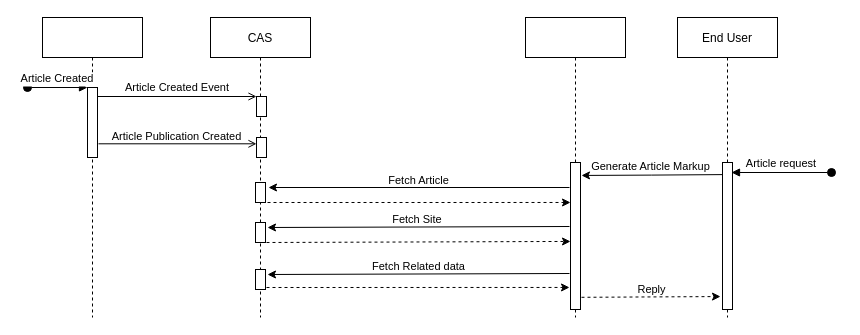
The diagram is 860 pixels wide and 335 high, and some of its shapes have lost their labels. Each missing label, with the box of its shape:
CMS: (42, 16, 142, 318)
Hydra: (524, 16, 626, 318)
